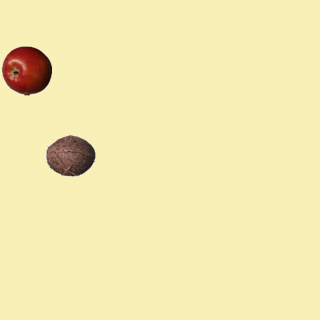Apple Braeburn: (1, 45, 51, 95)
Cocos: (45, 130, 95, 180)
